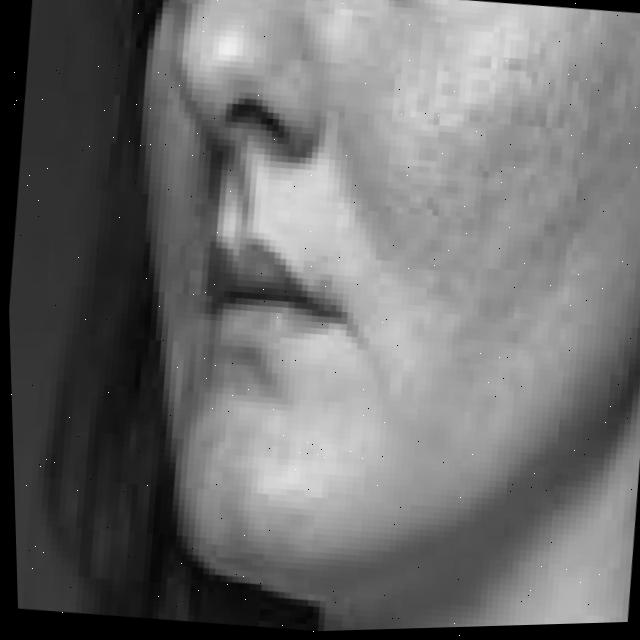Melasma: (352, 34, 640, 385)
